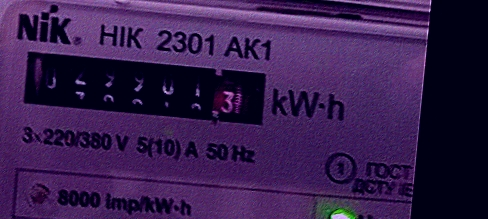0: (39, 62, 60, 90), (158, 67, 177, 97)
1: (189, 69, 205, 98)
2: (70, 59, 90, 87)
3: (217, 87, 236, 114)
9: (100, 61, 118, 90), (130, 65, 146, 93)
screen: (12, 39, 278, 136)
